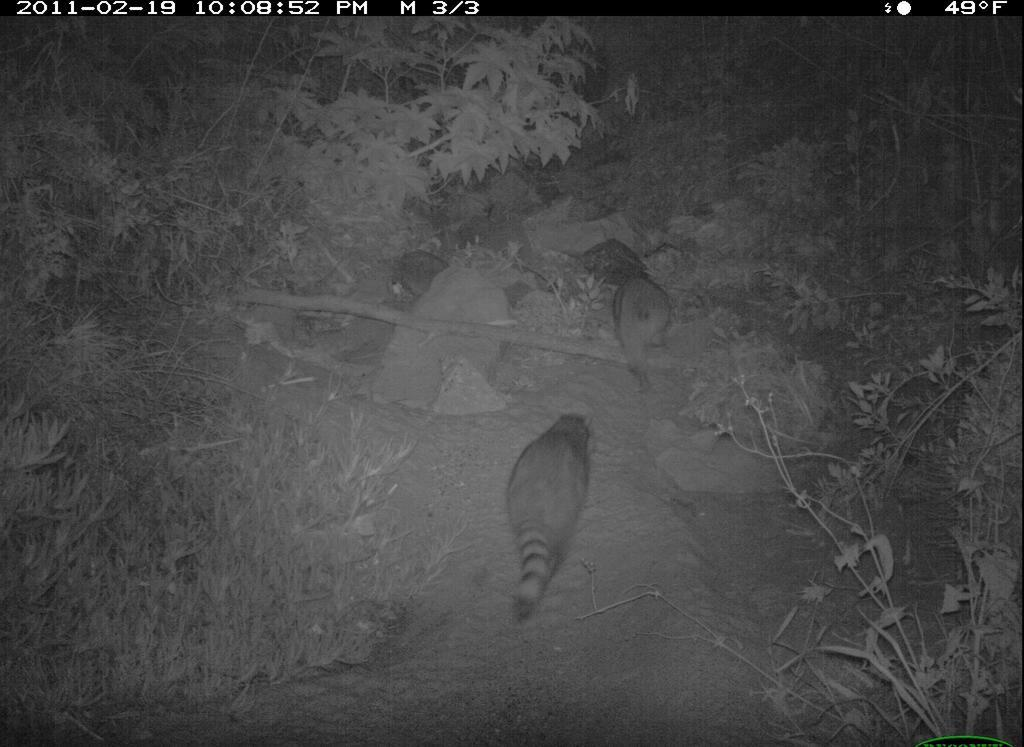raccoon: (498, 404, 606, 629)
